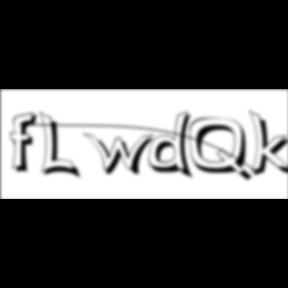L: (39, 110, 83, 182)
Q: (189, 117, 255, 184)
d: (149, 110, 199, 182)
f: (10, 111, 44, 175)
w: (83, 132, 161, 178)
